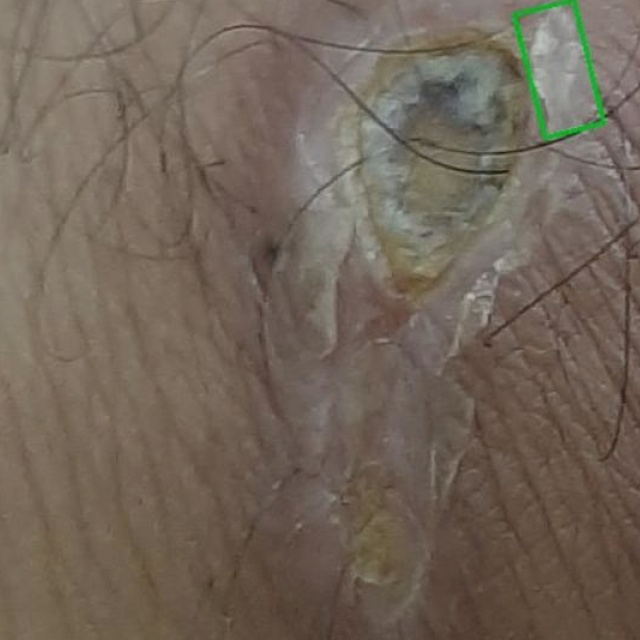Contact Dermatitis: (514, 0, 604, 138)
